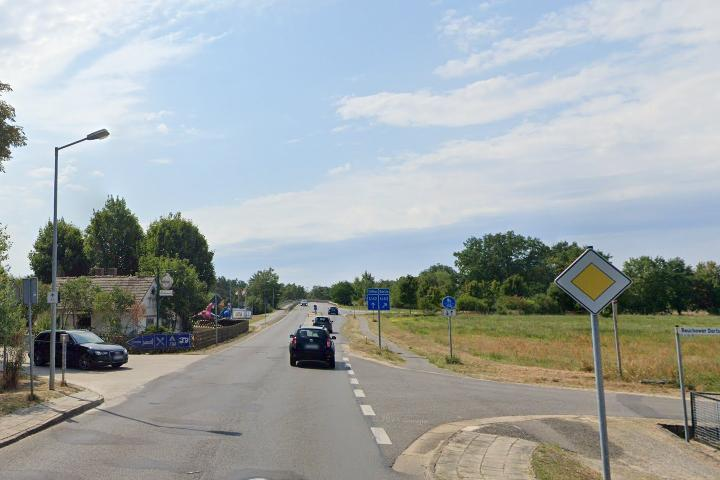traffic_sign: (550, 247, 633, 314)
vehicle: (26, 327, 130, 371), (287, 324, 337, 372)
